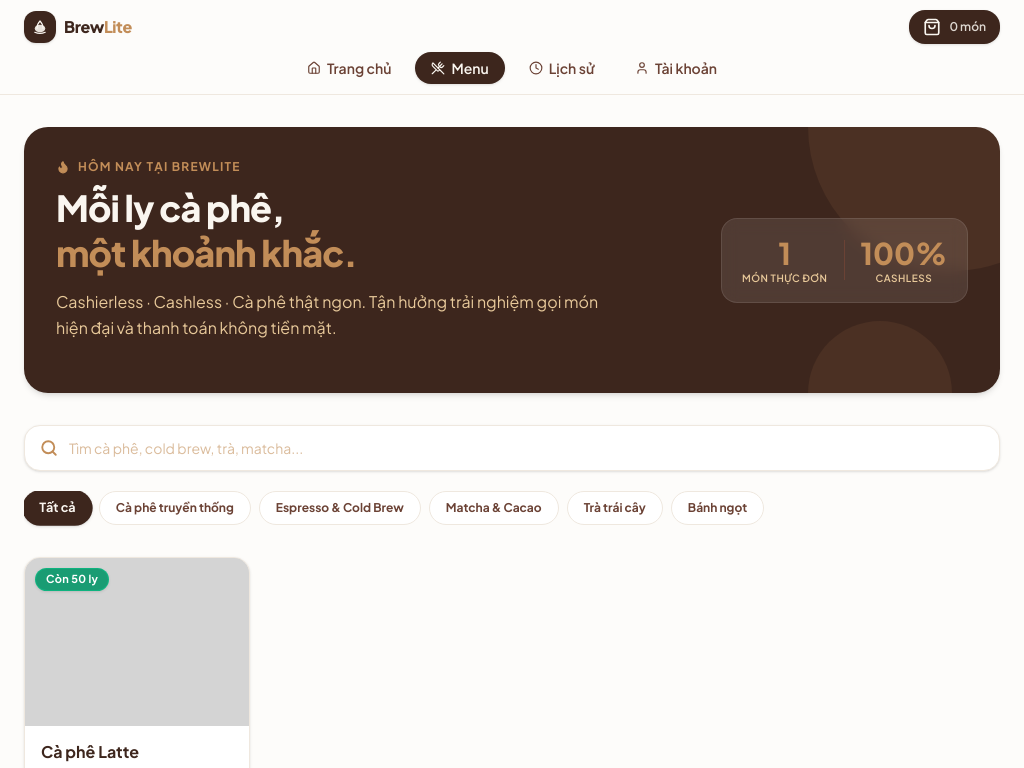
Test: MenuPage React Component Tests › opens Slide-over Cart Drawer from header, displays role dialog and aria-modal, and closes on Escape or close button
Expected: the heading "Cà phê Latte" is shown, [41,741,139,762]
Expected: the dialog "giỏ hàng của bạn" is not shown
// Click Header Cart Button to open drawer
Step 1. Click the button with aria-label "giỏ hàng: 0 món" → (955, 27), box [909,10,1000,44]
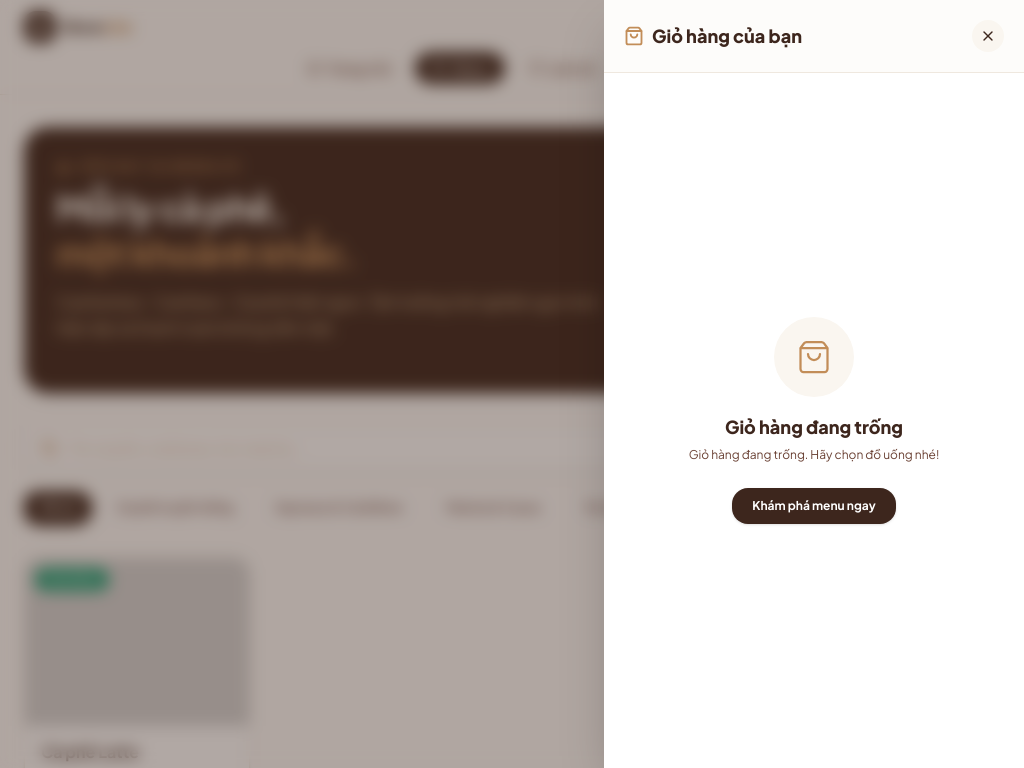
Expected: the dialog "Giỏ hàng của bạn" is shown, [604,0,1023,767]
// Press Escape to close drawer
Step 2. Press Escape
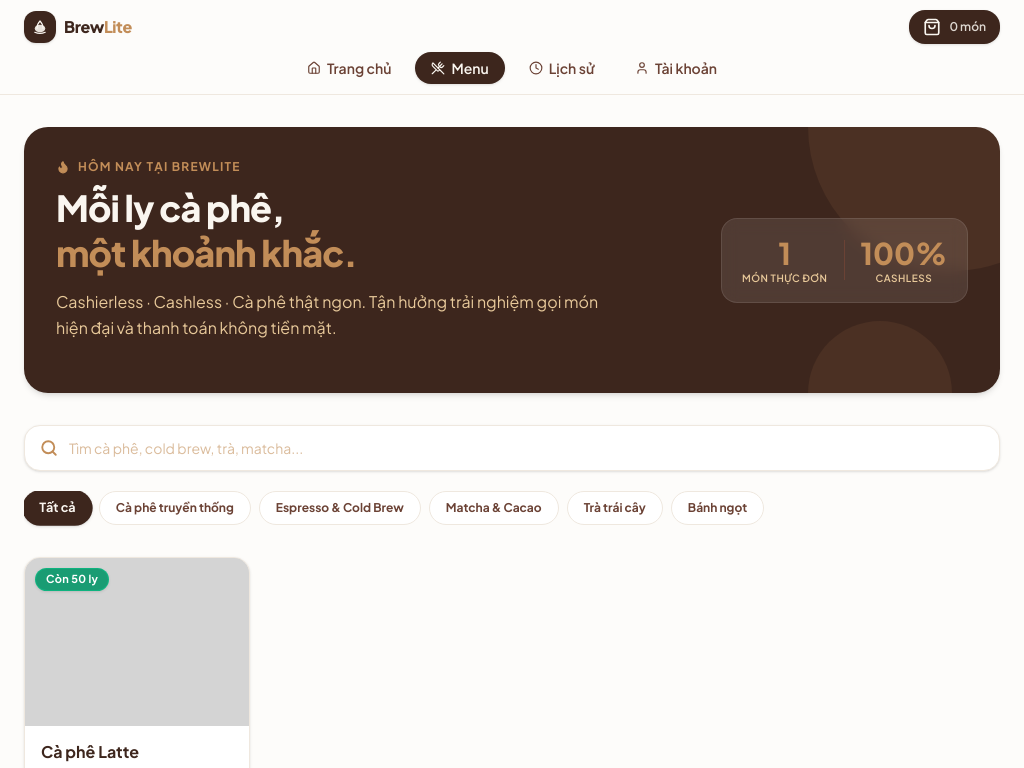
Expected: the heading "Giỏ hàng của bạn" is gone
// Open again and close using close button '✕'
Step 3. Click the button with aria-label "giỏ hàng: 0 món" → (955, 27), box [909,10,1000,44]
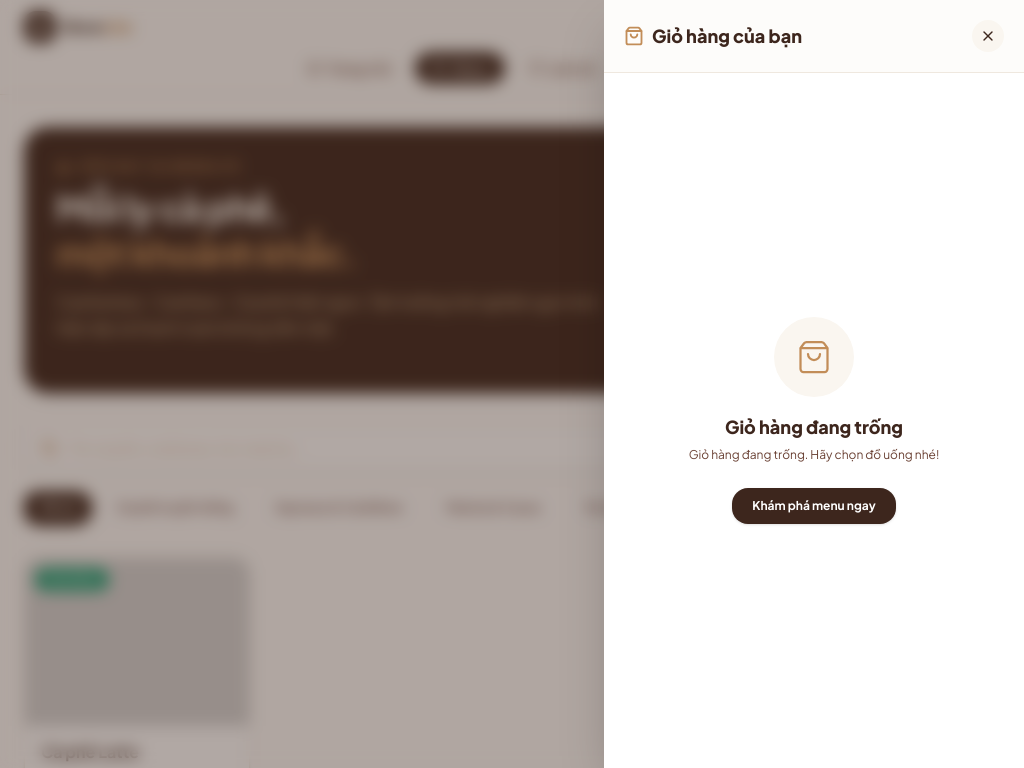
Expected: the dialog "Giỏ hàng của bạn" is shown, [604,0,1023,767]
Step 4. Click the button named "đóng giỏ hàng" → (988, 36), box [972,20,1004,52]
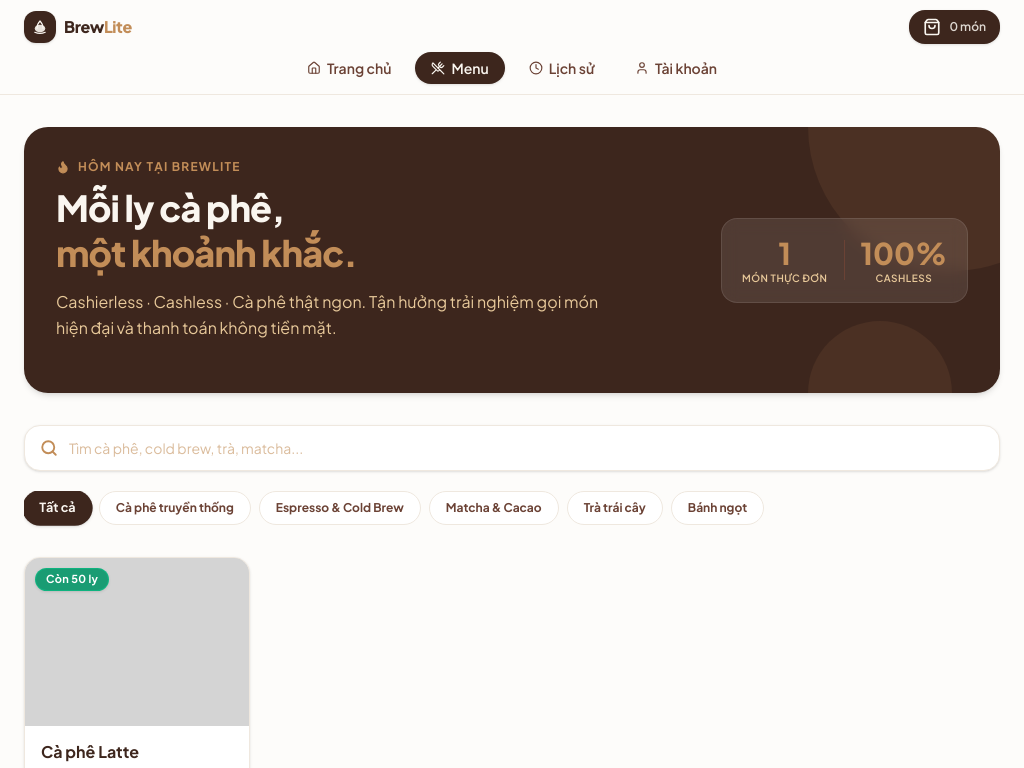
Expected: the heading "Giỏ hàng của bạn" is gone
